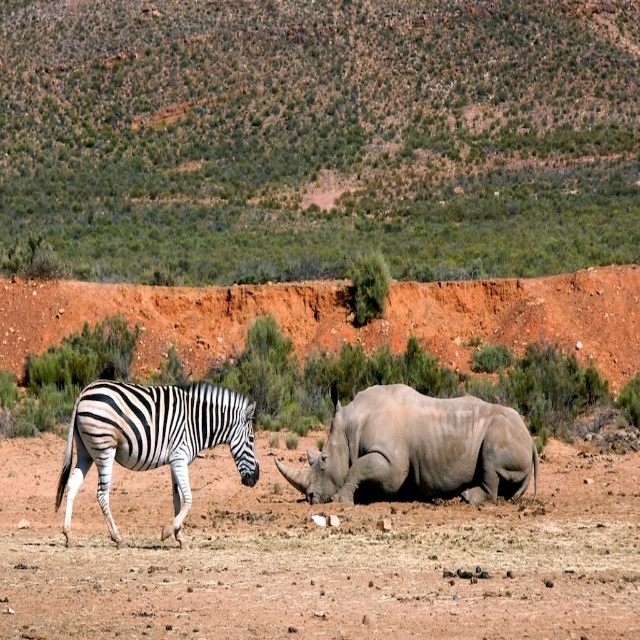Rhinoceros: (272, 377, 541, 509)
